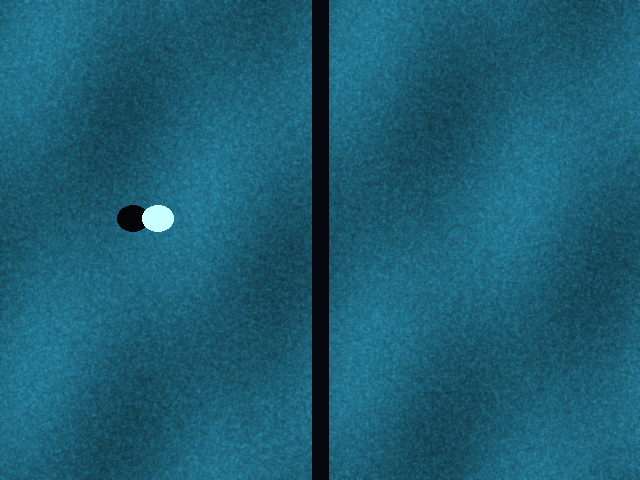Bottle: (142, 205, 173, 231)
